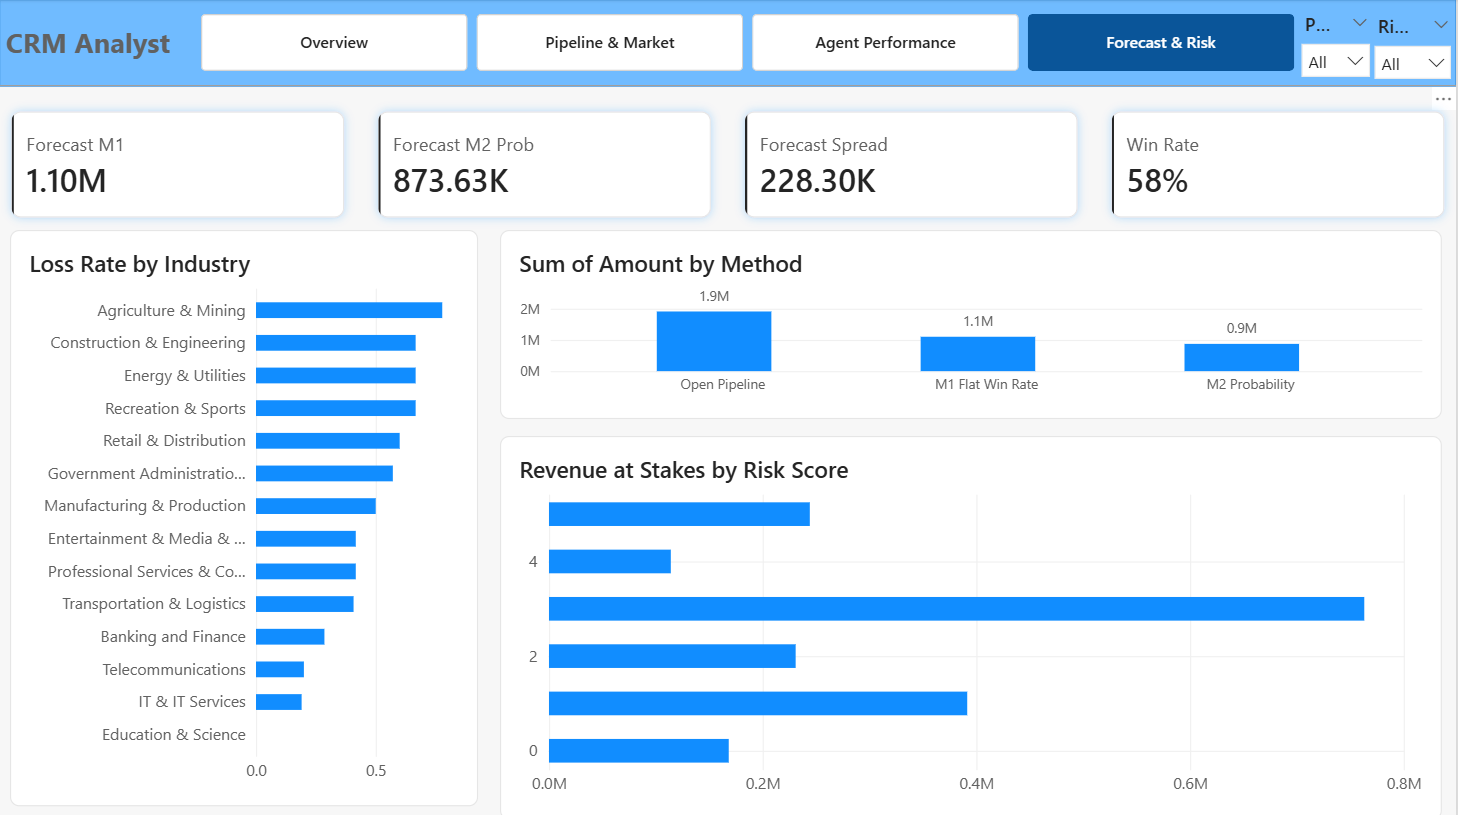

This screenshot's page, from the dashboard's own definition file:
{"tool":"powerbi","page":{"name":"Forecast & Risk","canvas":[1280,720],"ordinal":3},"visuals":[{"type":"shape","box":[0,0,1280,76.7],"z":0},{"type":"textbox","box":[0,21.2,156.2,55.4],"z":1000},{"type":"pageNavigator","box":[177.4,13.1,961.5,50.4],"z":2000},{"type":"cardVisual","fields":{"Data":["crm_data.Forecast M1","crm_data.Forecast M2 Prob","crm_data.Forecast Spread","crm_data.Win Rate"]},"box":[0,87.6,1280,115.4],"z":3000},{"type":"clusteredColumnChart","fields":{"Category":["Forecast Compare.Method"],"Y":["Sum(Forecast Compare.Amount)"]},"box":[440.1,203,826.5,165.9],"z":4000},{"type":"clusteredBarChart","fields":{"Category":["crm_data.Risk Score"],"Y":["crm_data.Revenue at Stakes"]},"box":[440.1,383.4,826.5,337],"z":5000},{"type":"clusteredBarChart","fields":{"Category":["crm_data.Industry"],"Y":["crm_data.Loss Rate"]},"box":[9.3,203,411.2,506],"z":6000},{"type":"slicer","fields":{"Values":["crm_data.Product"]},"box":[1138.8,11.3,70.1,74.2],"z":7000},{"type":"slicer","fields":{"Values":["crm_data.Risk Score"]},"box":[1202.7,13.4,77.3,68],"z":8000}]}

Visuals, with their boxes on the page's 1280x720 design canvas (x1, y1, x2, y2). These are canvas units, not pixel positions in the 1458x815 screenshot, which may show the page scaled, cropped or inside an application window:
shape: [left=0, top=0, right=1280, bottom=77]
textbox: [left=0, top=21, right=156, bottom=77]
pageNavigator: [left=177, top=13, right=1139, bottom=64]
cardVisual - crm_data.Forecast M1 x crm_data.Forecast M2 Prob: [left=0, top=88, right=1280, bottom=203]
clusteredColumnChart - Forecast Compare.Method x Sum(Forecast Compare.Amount): [left=440, top=203, right=1267, bottom=369]
clusteredBarChart - crm_data.Risk Score x crm_data.Revenue at Stakes: [left=440, top=383, right=1267, bottom=720]
clusteredBarChart - crm_data.Industry x crm_data.Loss Rate: [left=9, top=203, right=420, bottom=709]
slicer - crm_data.Product: [left=1139, top=11, right=1209, bottom=86]
slicer - crm_data.Risk Score: [left=1203, top=13, right=1280, bottom=81]
